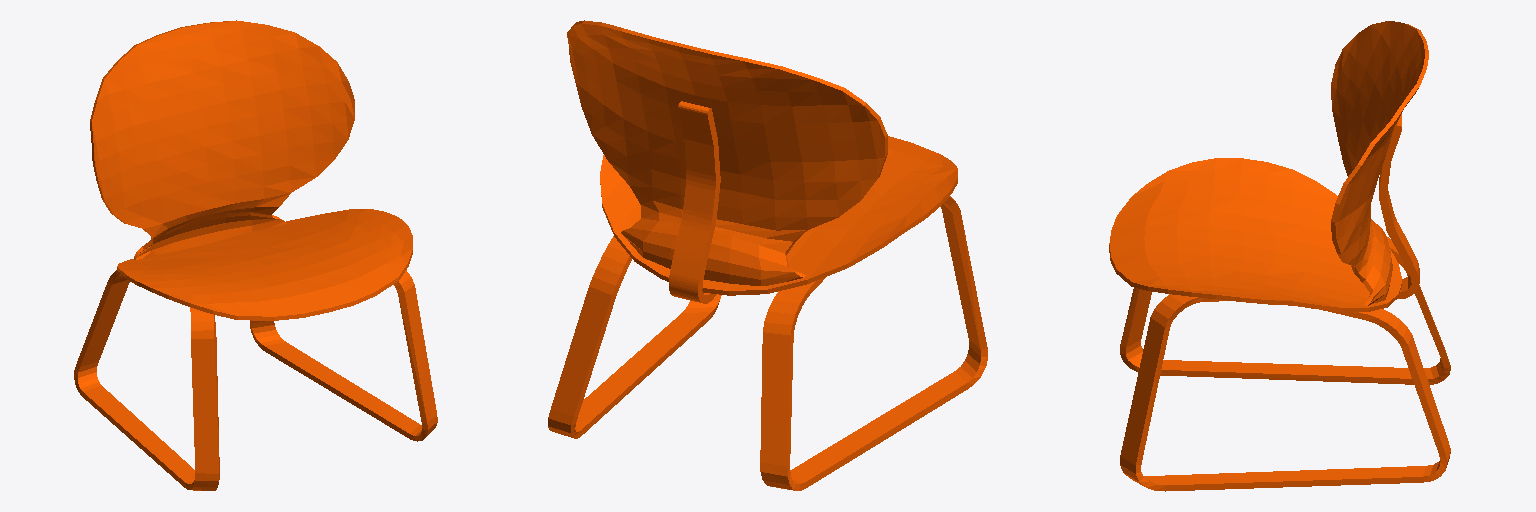
URDF robot description (low_chair):
<?xml version='1.0' encoding='UTF-8'?>
<robot name="low_chair">
  <material name="obj_color">
      <color rgba="1.0 0.423529411765 0.0392156862745 1.0" />
  </material>
  <link name="base">
    <visual>
      <origin xyz="0.0 0.0 0.0" rpy="0 0 0"/>
      <geometry>
        <mesh filename="low_chair.obj" scale="1 1 1" />
      </geometry>
      <material name="obj_color" />
    </visual>
    <collision>
      <origin xyz="0.0 0.0 0.0" rpy="0 0 0"/>
      <geometry>
        <mesh filename="low_chair.obj" scale="1 1 1"/>
      </geometry>
    </collision>
  </link>
</robot>

--- Facts derived from the render (not from the file) ---
Views: 3 orthographic renders of the robot side by side, from view 1: azimuth 30°, elevation 25°; view 2: azimuth 150°, elevation 25°; view 3: azimuth 270°, elevation 25°.
Robot: low_chair — 1 links, 0 joints (none); root link base; default pose: every joint at zero.
Visible links, largest first — view 1: base; view 2: base; view 3: base.
Link boxes in pixels (x1,y1,x2,y2): base: (74,20,437,490); base: (548,20,987,490); base: (1109,21,1450,491).
Size in the robot's own frame: 0.5915 by 0.6134 by 0.742 metres.
Meshes: 1 distinct files referenced, 1 mesh visuals loaded (1 OBJ).